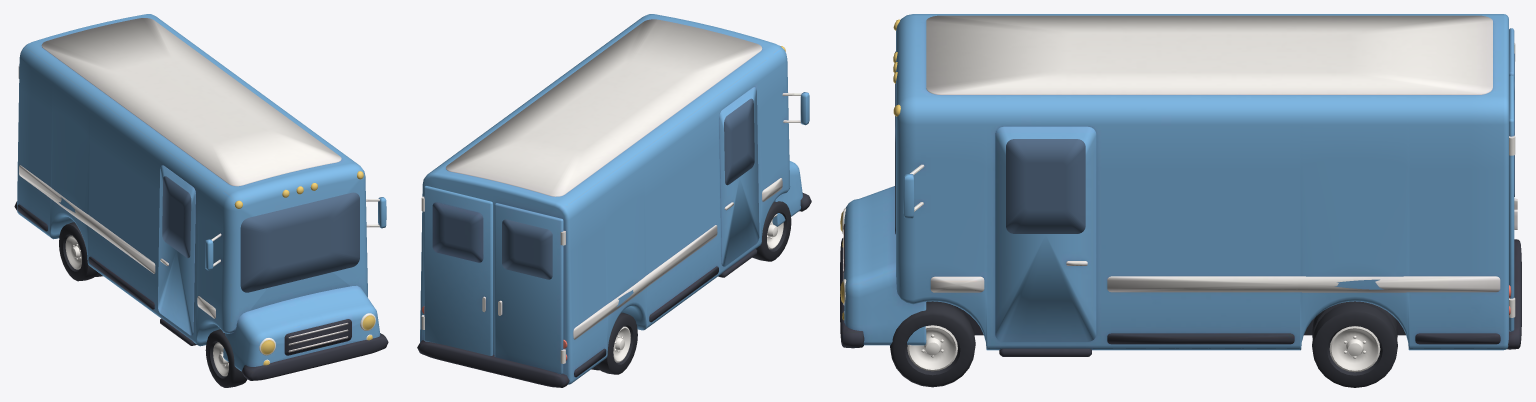
Rendered from delivery-truck.glb.
The picture shows the model from 3 angles, left to right: view 1: azimuth 30°, elevation 25°; view 2: azimuth 150°, elevation 25°; view 3: azimuth 270°, elevation 25°; orthographic projection. The views are drawn at different scales.
Parts seen in each view (by area): view 1: delivery-truck_body, delivery-truck_windows, delivery-truck_wheel_fr, delivery-truck_wheel_rr, delivery-truck_headlights; view 2: delivery-truck_body, delivery-truck_rear_leaf, delivery-truck_rear_windows, delivery-truck_windows, delivery-truck_wheel_rr, delivery-truck_wheel_fr; view 3: delivery-truck_body, delivery-truck_windows, delivery-truck_wheel_rl, delivery-truck_wheel_fl, delivery-truck_rear_leaf.
Boxes of the visible parts, x1=… form: delivery-truck_body: x1=14, y1=14, x2=388, y2=380; delivery-truck_windows: x1=162, y1=176, x2=359, y2=292; delivery-truck_wheel_fr: x1=205, y1=329, x2=247, y2=387; delivery-truck_wheel_rr: x1=59, y1=222, x2=102, y2=281; delivery-truck_headlights: x1=259, y1=313, x2=375, y2=365; delivery-truck_body: x1=417, y1=14, x2=811, y2=387; delivery-truck_rear_leaf: x1=421, y1=185, x2=492, y2=355; delivery-truck_rear_windows: x1=502, y1=219, x2=552, y2=279; delivery-truck_windows: x1=724, y1=98, x2=754, y2=185; delivery-truck_wheel_rr: x1=591, y1=312, x2=637, y2=374; delivery-truck_wheel_fr: x1=752, y1=201, x2=791, y2=261; delivery-truck_body: x1=840, y1=14, x2=1521, y2=356; delivery-truck_windows: x1=895, y1=51, x2=1085, y2=234; delivery-truck_wheel_rl: x1=1312, y1=301, x2=1397, y2=387; delivery-truck_wheel_fl: x1=890, y1=301, x2=975, y2=387; delivery-truck_rear_leaf: x1=1509, y1=75, x2=1517, y2=331.
Bounding box in the file's own units: 2.77 × 2.96 × 6.33.
20 materials, 2 textured.
